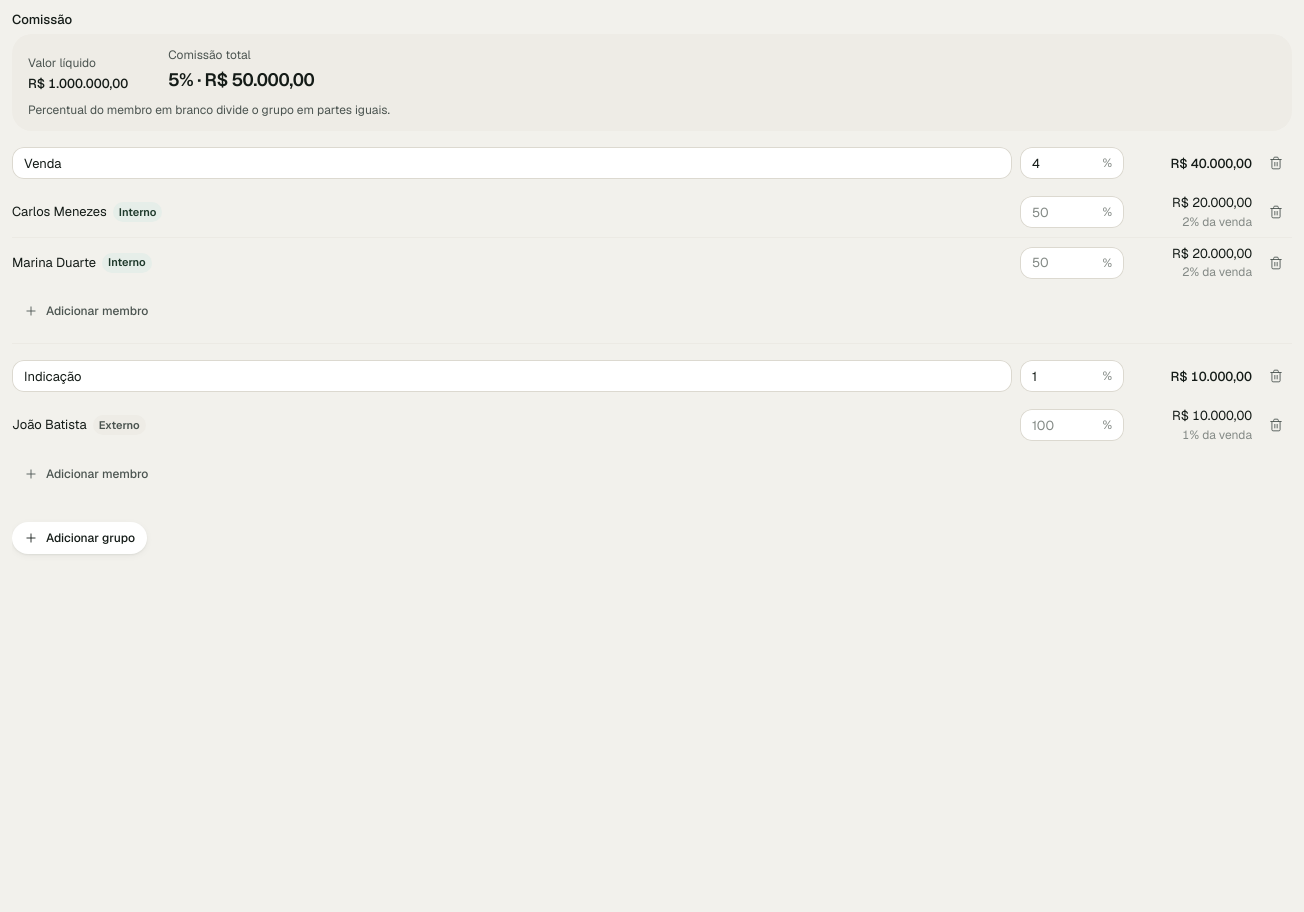
CommissionEditor — edição › adiciona um grupo vazio ao fim e leva o foco ao nome dele
What coordinates should you click on to do the following:
click the button "Adicionar grupo"
I would click on:
 (80, 538)
Its box is [12,522,147,554].
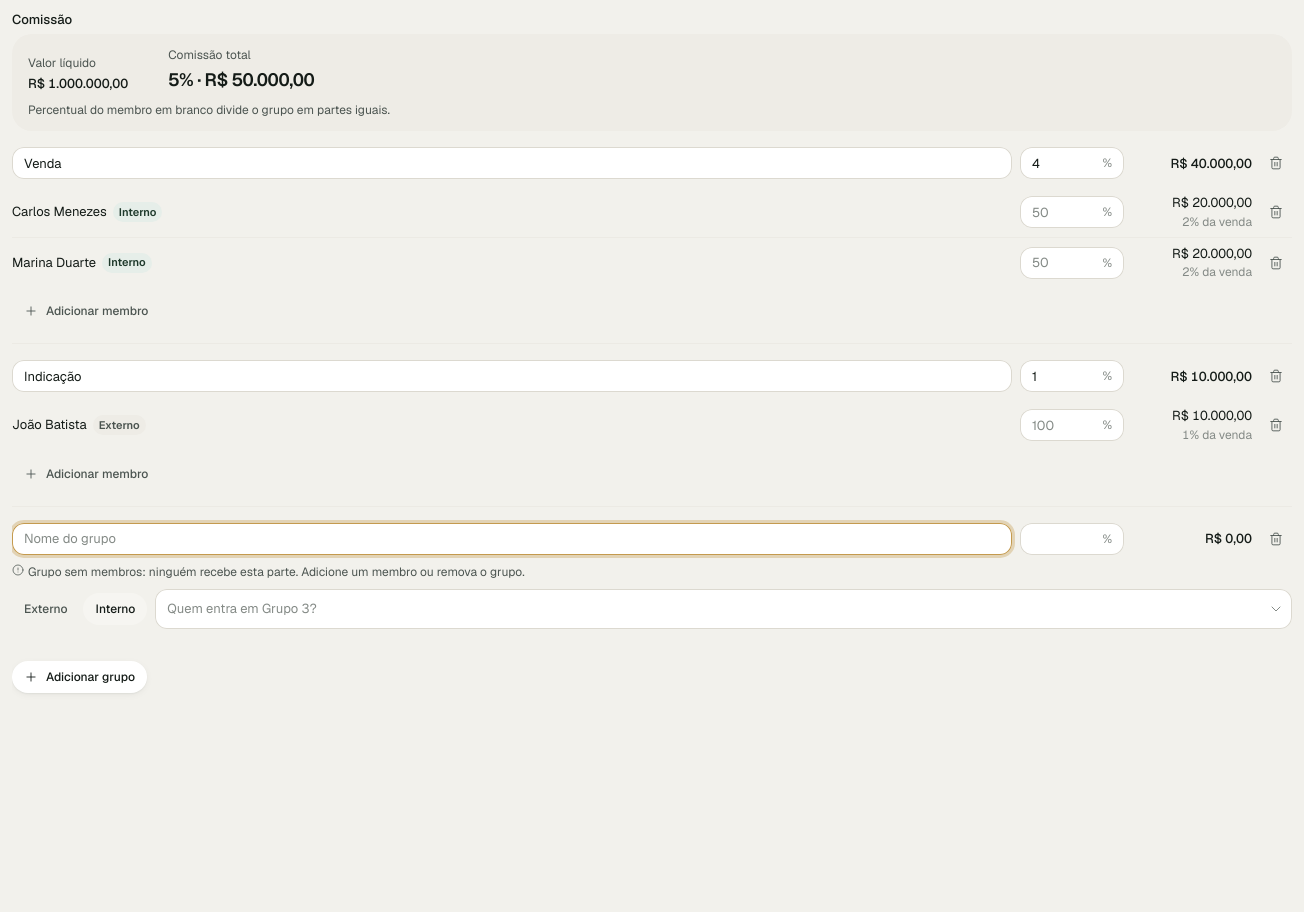
Now the element named "Grupo 3" shows "Grupo sem membros", box [28,564,525,580]
